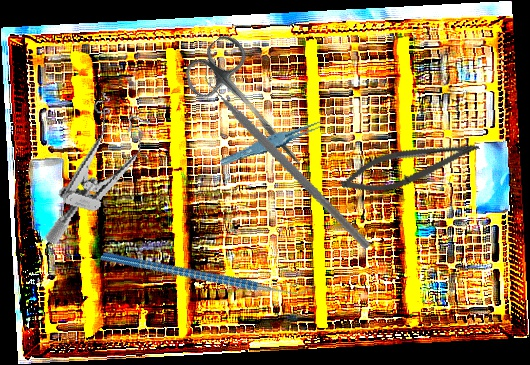Chopper: (170, 57, 404, 251), (99, 184, 317, 360)
Iris Scissors: (177, 30, 327, 185)
Micro Scissor: (336, 123, 484, 206)
Speculum: (43, 87, 156, 261)
Tissue Forceps: (217, 117, 331, 168)
